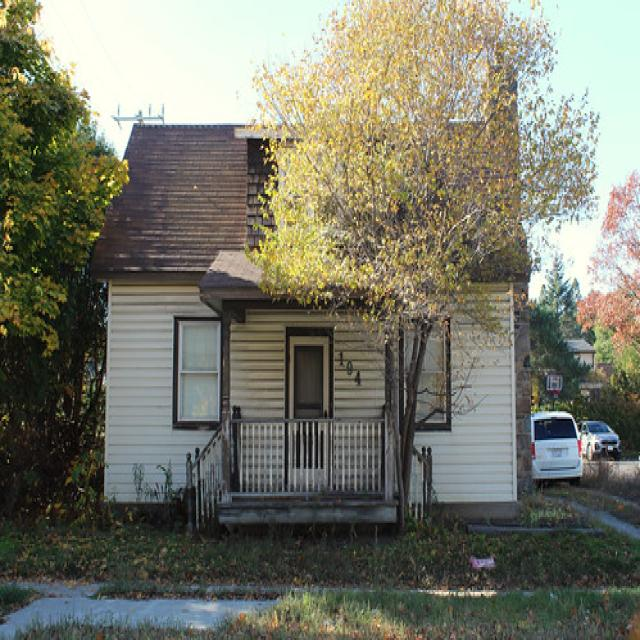building: (87, 104, 534, 538)
